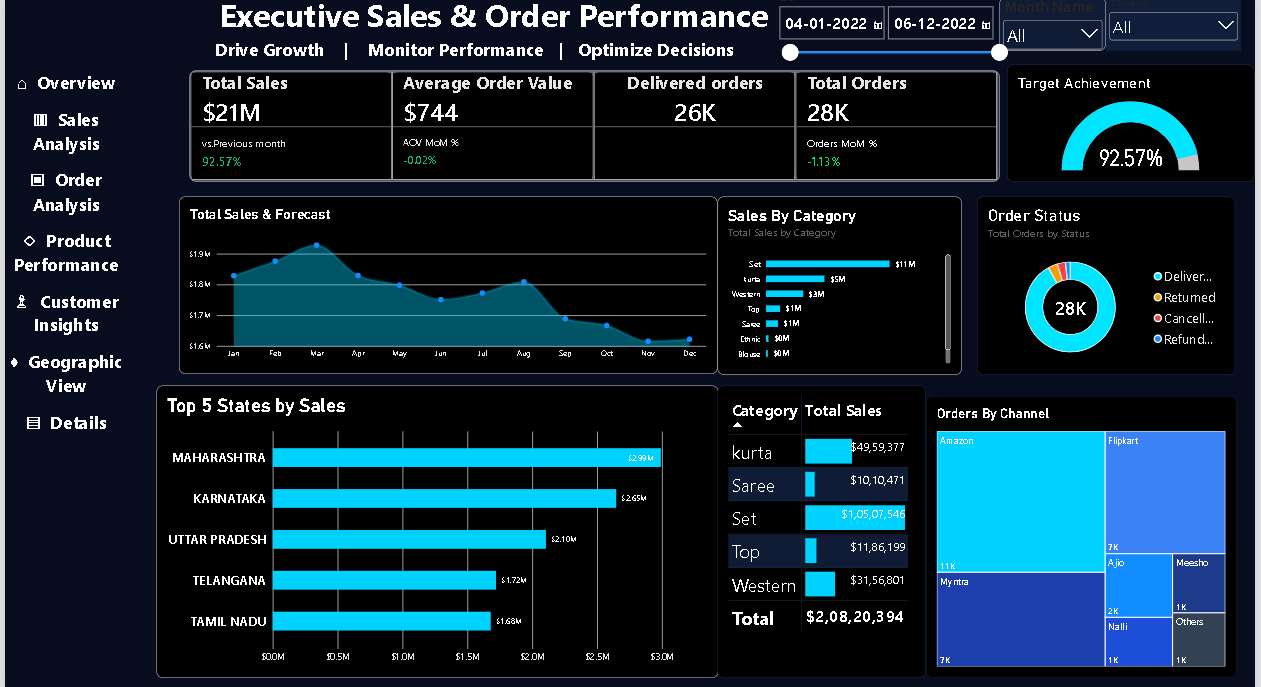

What the dashboard file says about the page in this screenshot:
{"tool":"powerbi","page":{"name":"Page 1","canvas":[1920,1080],"ordinal":0},"visuals":[{"type":"textbox","box":[0,0,1502.7,66.2],"z":0},{"type":"slicer","fields":{"Values":["Dim_date.Month Name"]},"box":[1527.9,4.6,163.6,83],"z":1000},{"type":"slicer","title":"Monthly Sales Trend","fields":{"Values":["Fact_orders.Category"]},"box":[1691.5,4.6,207.4,83],"z":2000},{"type":"donutChart","title":"Order Status ","fields":{"Category":["Fact_orders.Status"],"Y":["_Measure.Total Orders"]},"box":[1493.3,311.1,396.4,274.2],"z":3000},{"type":"barChart","title":"Sales By Category","fields":{"Category":["Fact_orders.Category"],"Y":["_Measure.Total Sales"]},"box":[1094.6,311.1,375.6,274.2],"z":4000},{"type":"textbox","box":[1806,184.7,113.1,154.4],"z":5000},{"type":"textbox","box":[186.7,66.8,1076.2,50.7],"z":6000},{"type":"slicer","fields":{"Values":["Dim_date.Date"]},"box":[1182.2,0,361.2,107.5],"z":7000},{"type":"textbox","box":[0,118.6,187.5,932],"z":8000},{"type":"lineChart","title":"Total Sales & Forecast","fields":{"Category":["Dim_date.Month Name"],"Y":["_Measure.Total Sales"]},"box":[267.5,311.6,827.2,273],"z":9000},{"type":"cardVisual","fields":{"Data":["_Measure.Total Sales","_Measure.Average Order Value","_Measure.Delivered orders","_Measure.Total Orders"]},"box":[283.4,117.5,1244.4,170.5],"z":10000},{"type":"gauge","title":"Target Achievement","fields":{"Y":["_Measure.Delivery Rate%"]},"box":[1539.4,108.3,380.2,179.7],"z":11000},{"type":"clusteredBarChart","title":"Top 5 States by Sales","fields":{"Category":["Fact_orders.ship-state"],"Y":["_Measure.Total Sales"]},"box":[231.6,601.1,863,449.4],"z":12000},{"type":"pivotTable","fields":{"Rows":["Fact_orders.Category"],"Values":["_Measure.Total Sales"]},"box":[1094.7,601.1,319.8,449.4],"z":13000},{"type":"treemap","title":"Orders By Channel","fields":{"Group":["Fact_orders.Channel "],"Values":["_Measure.Total Orders"]},"box":[1414.5,617.6,477,432.9],"z":13001}]}

Visuals, with their boxes on the page's 1920x1080 design canvas (x1, y1, x2, y2). These are canvas units, not pixel positions in the 1261x687 screenshot, which may show the page scaled, cropped or inside an application window:
textbox: (0,0,1503,66)
slicer - Dim_date.Month Name: (1528,5,1692,88)
"Monthly Sales Trend" slicer: (1692,5,1899,88)
"Order Status " donutChart: (1493,311,1890,585)
"Sales By Category" barChart: (1095,311,1470,585)
textbox: (1806,185,1919,339)
textbox: (187,67,1263,118)
slicer - Dim_date.Date: (1182,0,1543,108)
textbox: (0,119,188,1051)
"Total Sales & Forecast" lineChart: (268,312,1095,585)
cardVisual - _Measure.Total Sales x _Measure.Average Order Value: (283,118,1528,288)
"Target Achievement" gauge: (1539,108,1920,288)
"Top 5 States by Sales" clusteredBarChart: (232,601,1095,1050)
pivotTable - Fact_orders.Category x _Measure.Total Sales: (1095,601,1414,1050)
"Orders By Channel" treemap: (1414,618,1892,1050)
